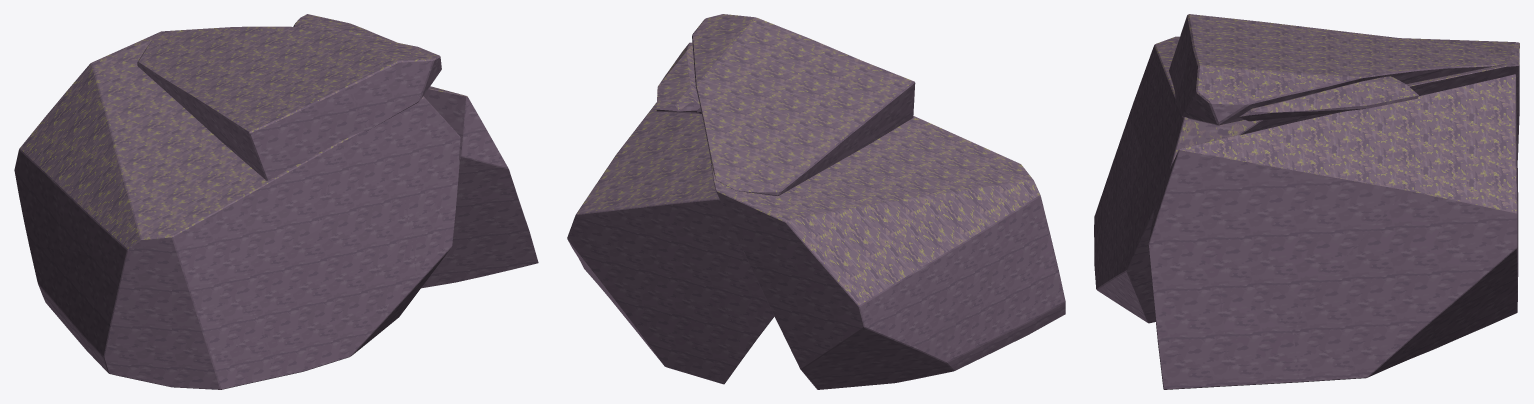
File: A05_Boulder_B.fbx
3 views of the same model, side by side, from view 1: azimuth 30°, elevation 25°; view 2: azimuth 150°, elevation 25°; view 3: azimuth 270°, elevation 25° (orthographic). The views are drawn at different scales.
Visible parts, largest first — view 1: A05B_rock_0, A05B_rock_1, A05B_rock_2, A05B_rock_3; view 2: A05B_rock_0, A05B_rock_2, A05B_rock_1, A05B_rock_3; view 3: A05B_rock_2, A05B_rock_1, A05B_rock_0, A05B_rock_3.
Boxes of the visible parts, box(x1,y1,x2,y2) form: A05B_rock_0: box(14, 30, 460, 389); A05B_rock_1: box(137, 26, 441, 180); A05B_rock_2: box(421, 86, 538, 288); A05B_rock_3: box(293, 14, 396, 42); A05B_rock_0: box(710, 116, 1065, 389); A05B_rock_2: box(567, 102, 774, 384); A05B_rock_1: box(692, 14, 915, 195); A05B_rock_3: box(656, 42, 701, 113); A05B_rock_2: box(1148, 74, 1518, 389); A05B_rock_1: box(1169, 14, 1505, 125); A05B_rock_0: box(1094, 36, 1519, 323); A05B_rock_3: box(1239, 76, 1418, 121).
Bounding box in the file's own units: 3.1 × 1.69 × 2.32.
